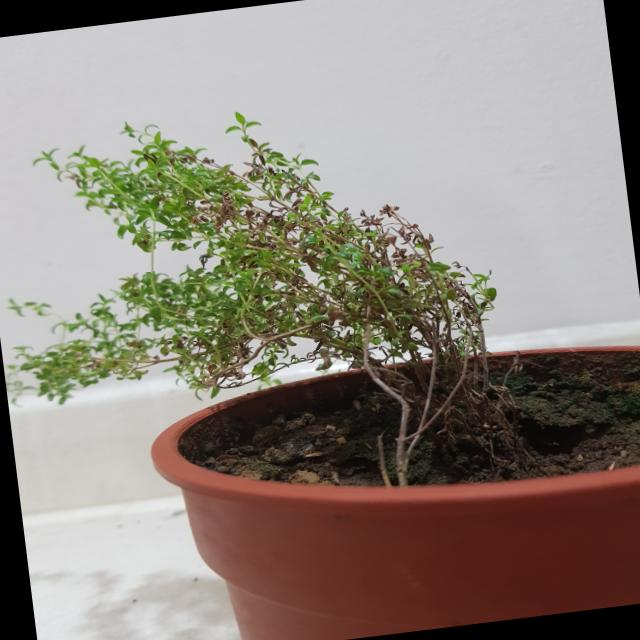Thyme: (0, 68, 550, 512)
